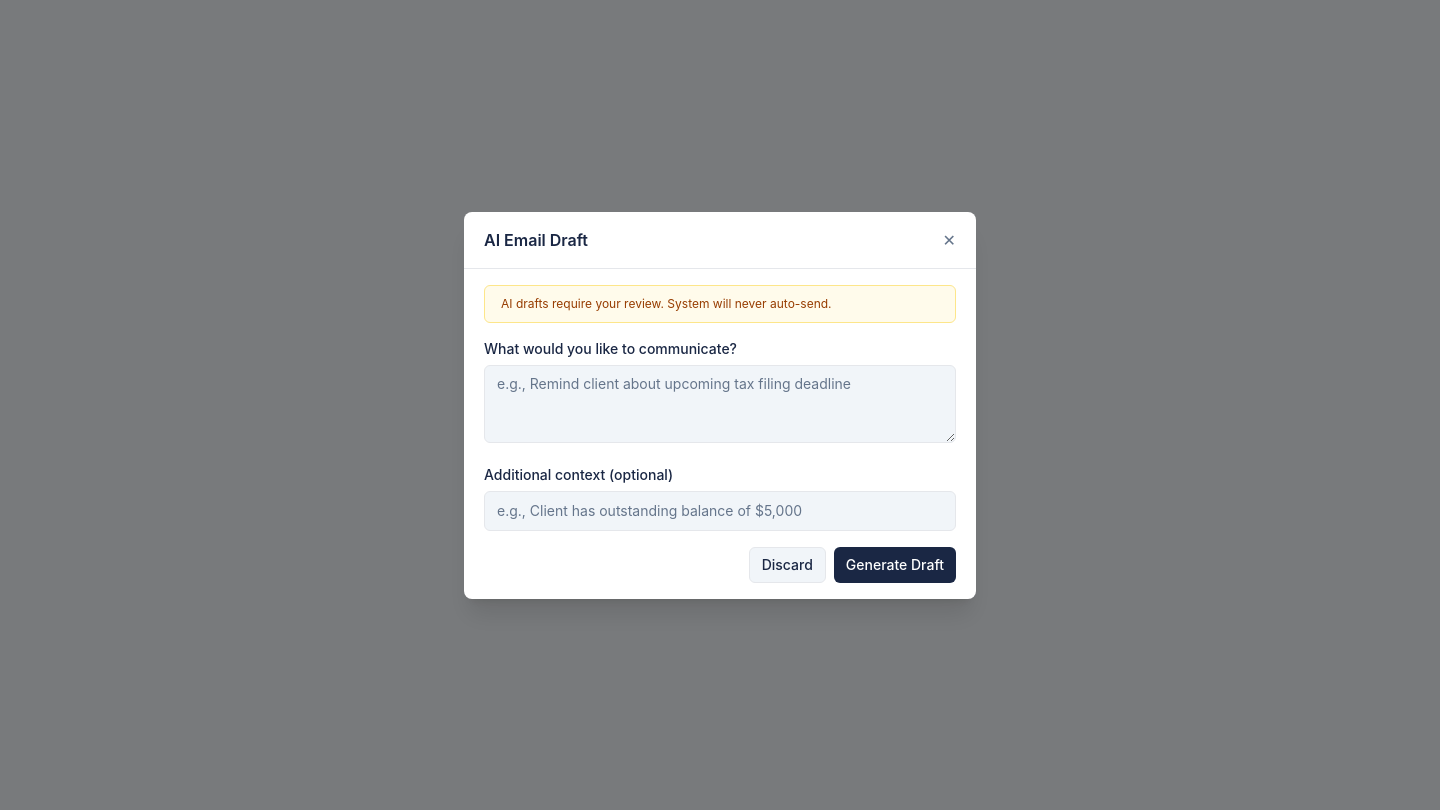
Scenario: AiDraftModal › shows preview step with draft after successful generation
Type "Remind about tax filing deadline" into the text box with placeholder "e.g., Remind client about upcoming tax filing deadline" at (720, 404), box x1=484 y1=364 x2=956 y2=442
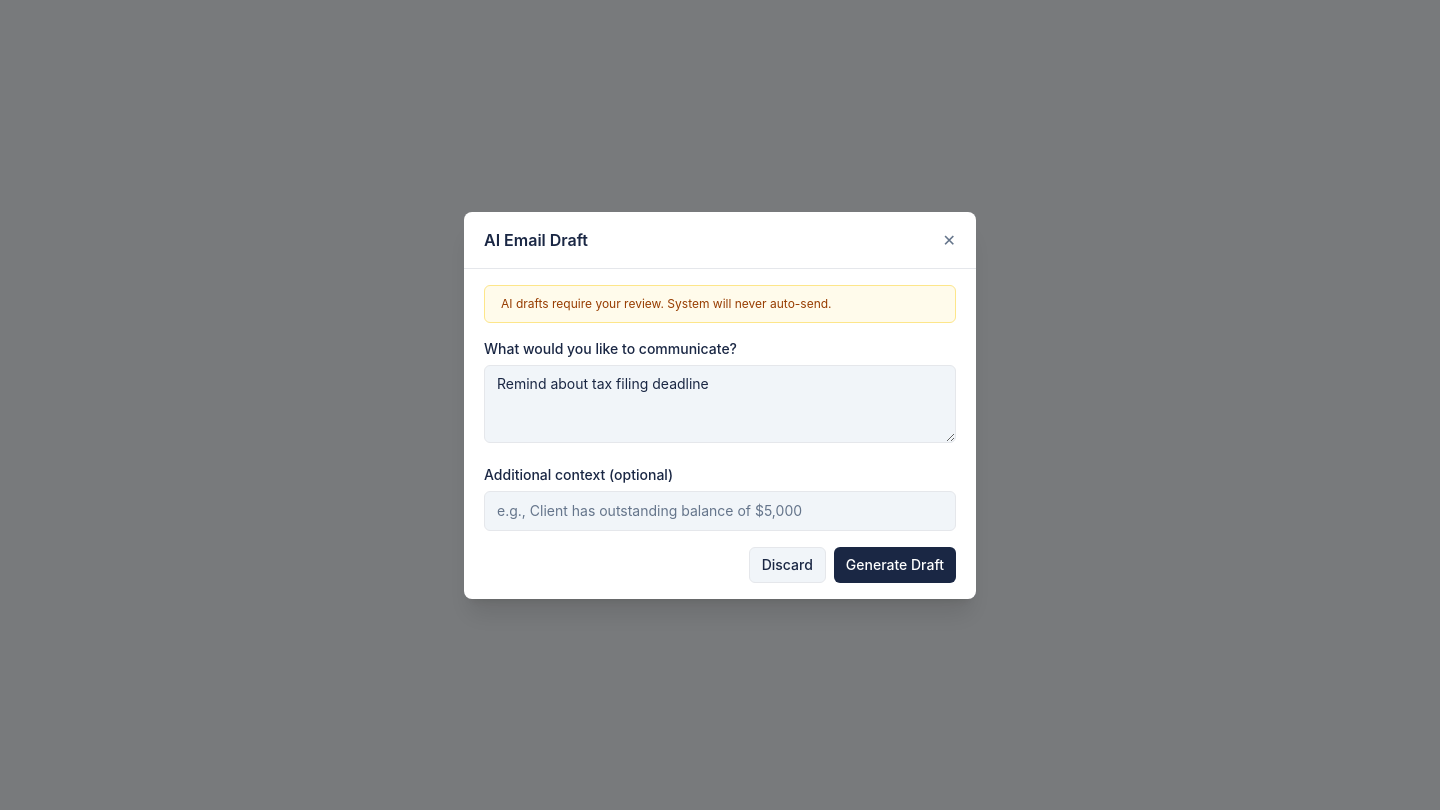
Click the button "Generate Draft" at (895, 564), box x1=834 y1=546 x2=956 y2=582
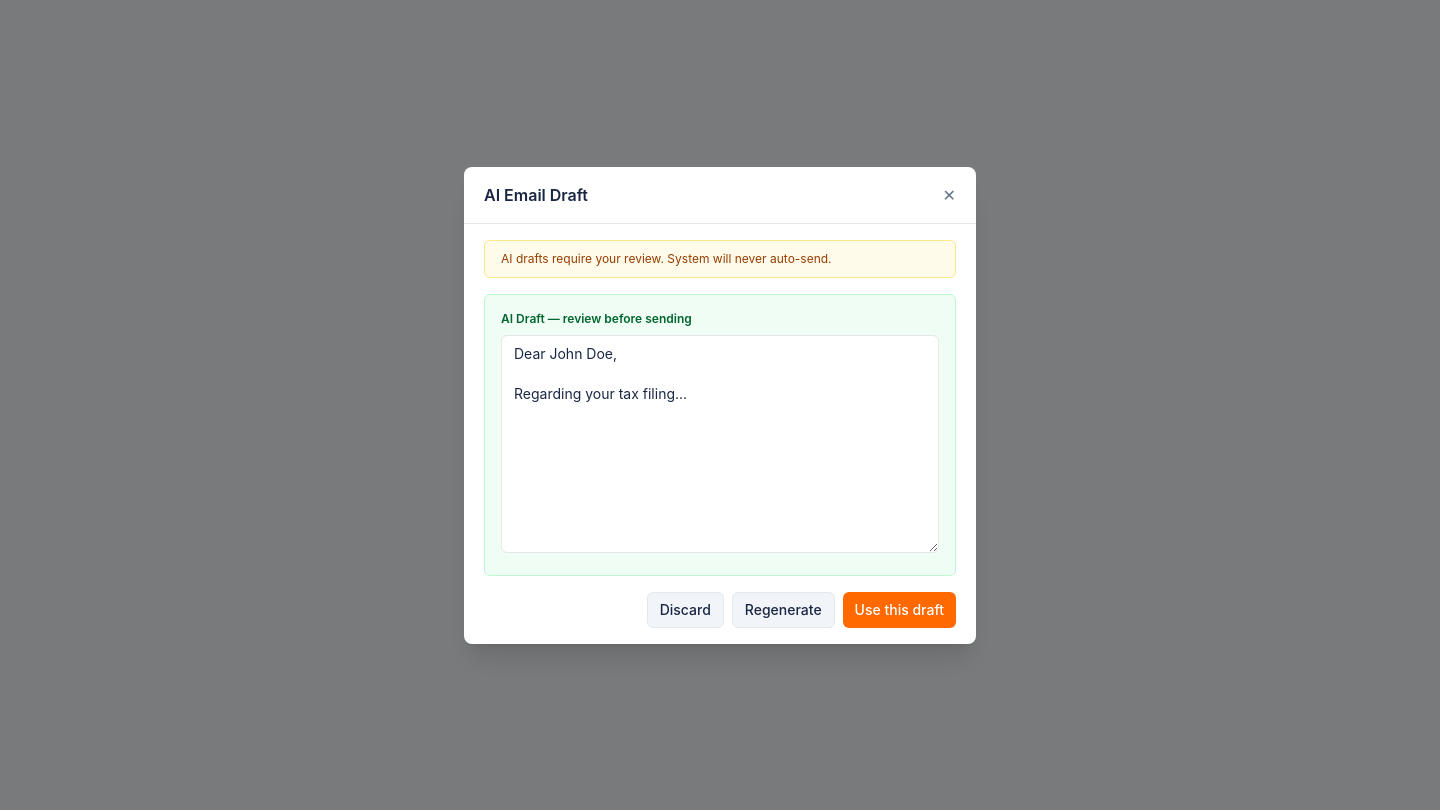
expect the text "AI Draft — review before sending" is shown: met, box x1=501 y1=310 x2=692 y2=326
expect the button "Use this draft" is shown: met, box x1=843 y1=592 x2=956 y2=628
expect the button "Regenerate" is shown: met, box x1=732 y1=592 x2=835 y2=628
